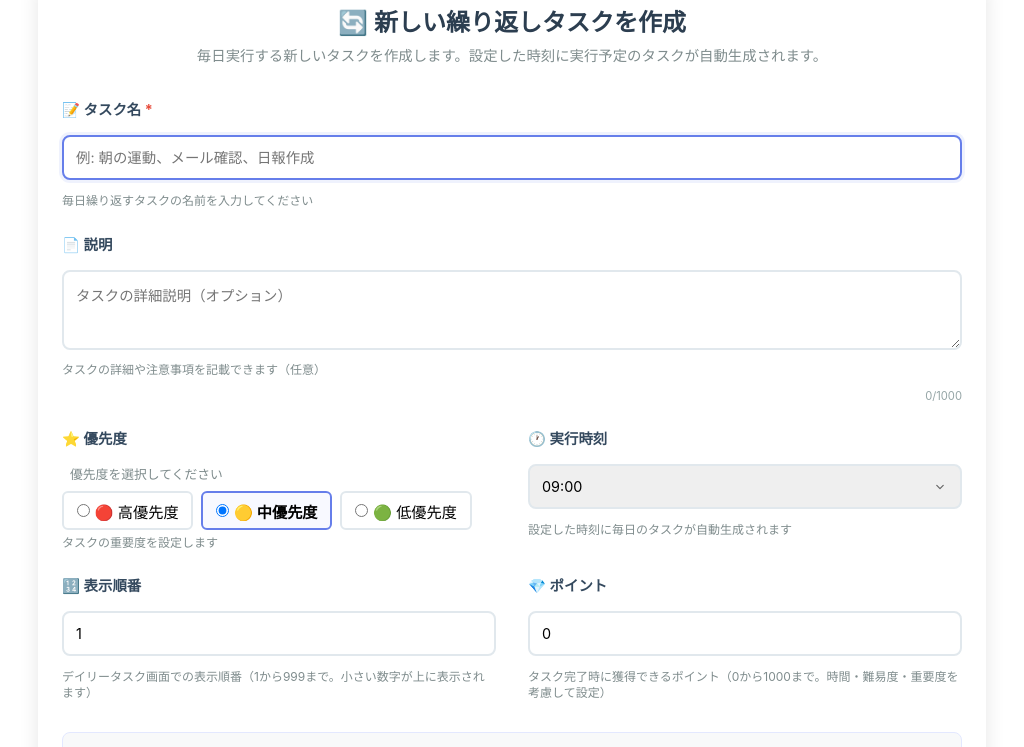
RecurringTaskForm › バリデーション › タスク名を入力すると送信ボタンが有効になる
The image size is (1024, 747).
Step 1. Type "朝の運動" into the field labelled "📝 タスク名 *" → (512, 158), box [62,135,962,180]
(page scrolled)
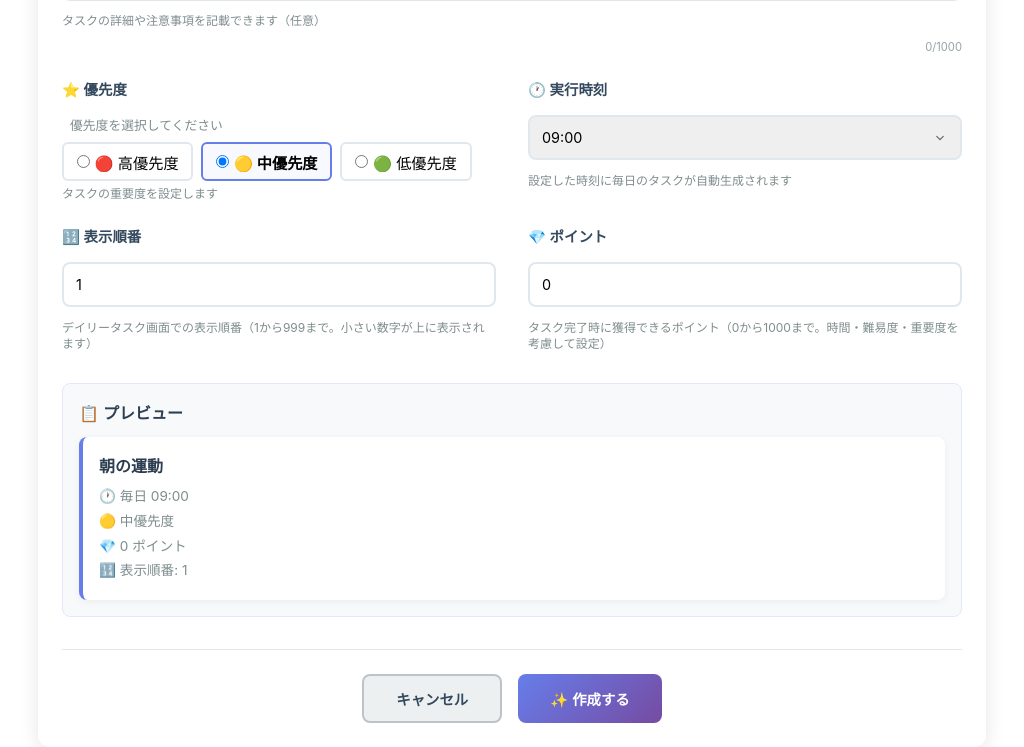
Now the button "✨ 作成する" is enabled, box [518,674,662,723]
